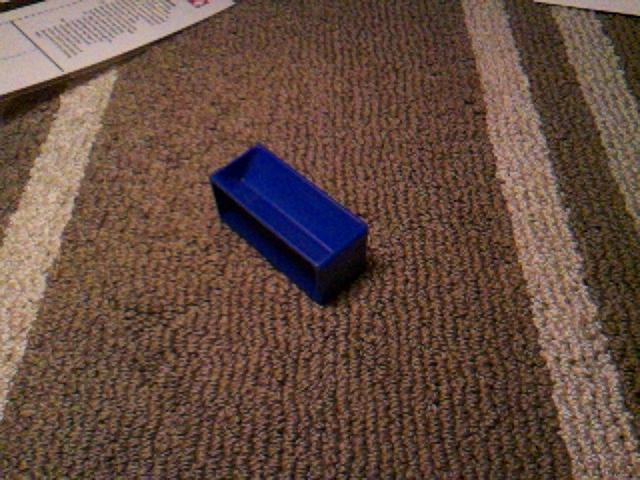blue: (208, 142, 370, 306)
